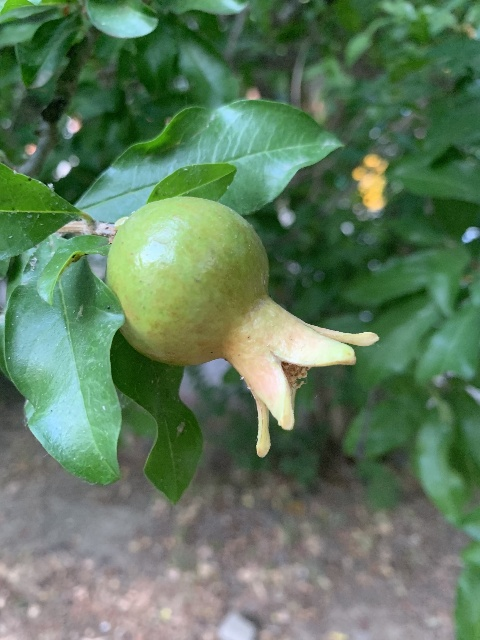mid-growth: (106, 197, 377, 458)
